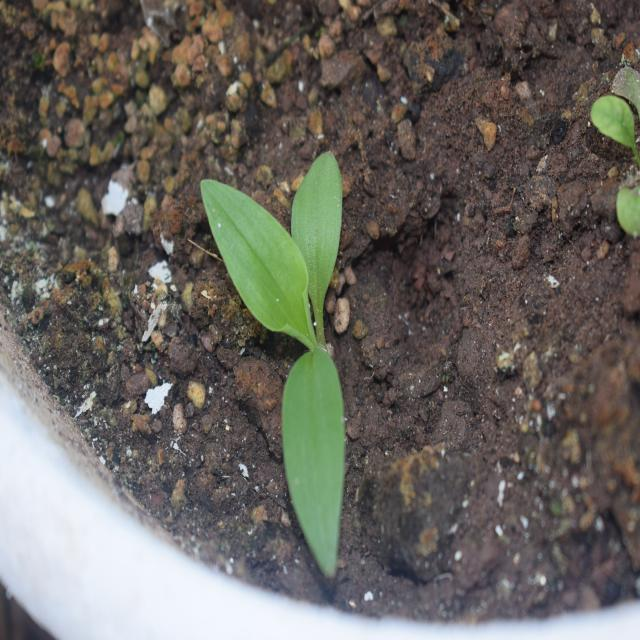Common Dayflower: (182, 148, 366, 567)
